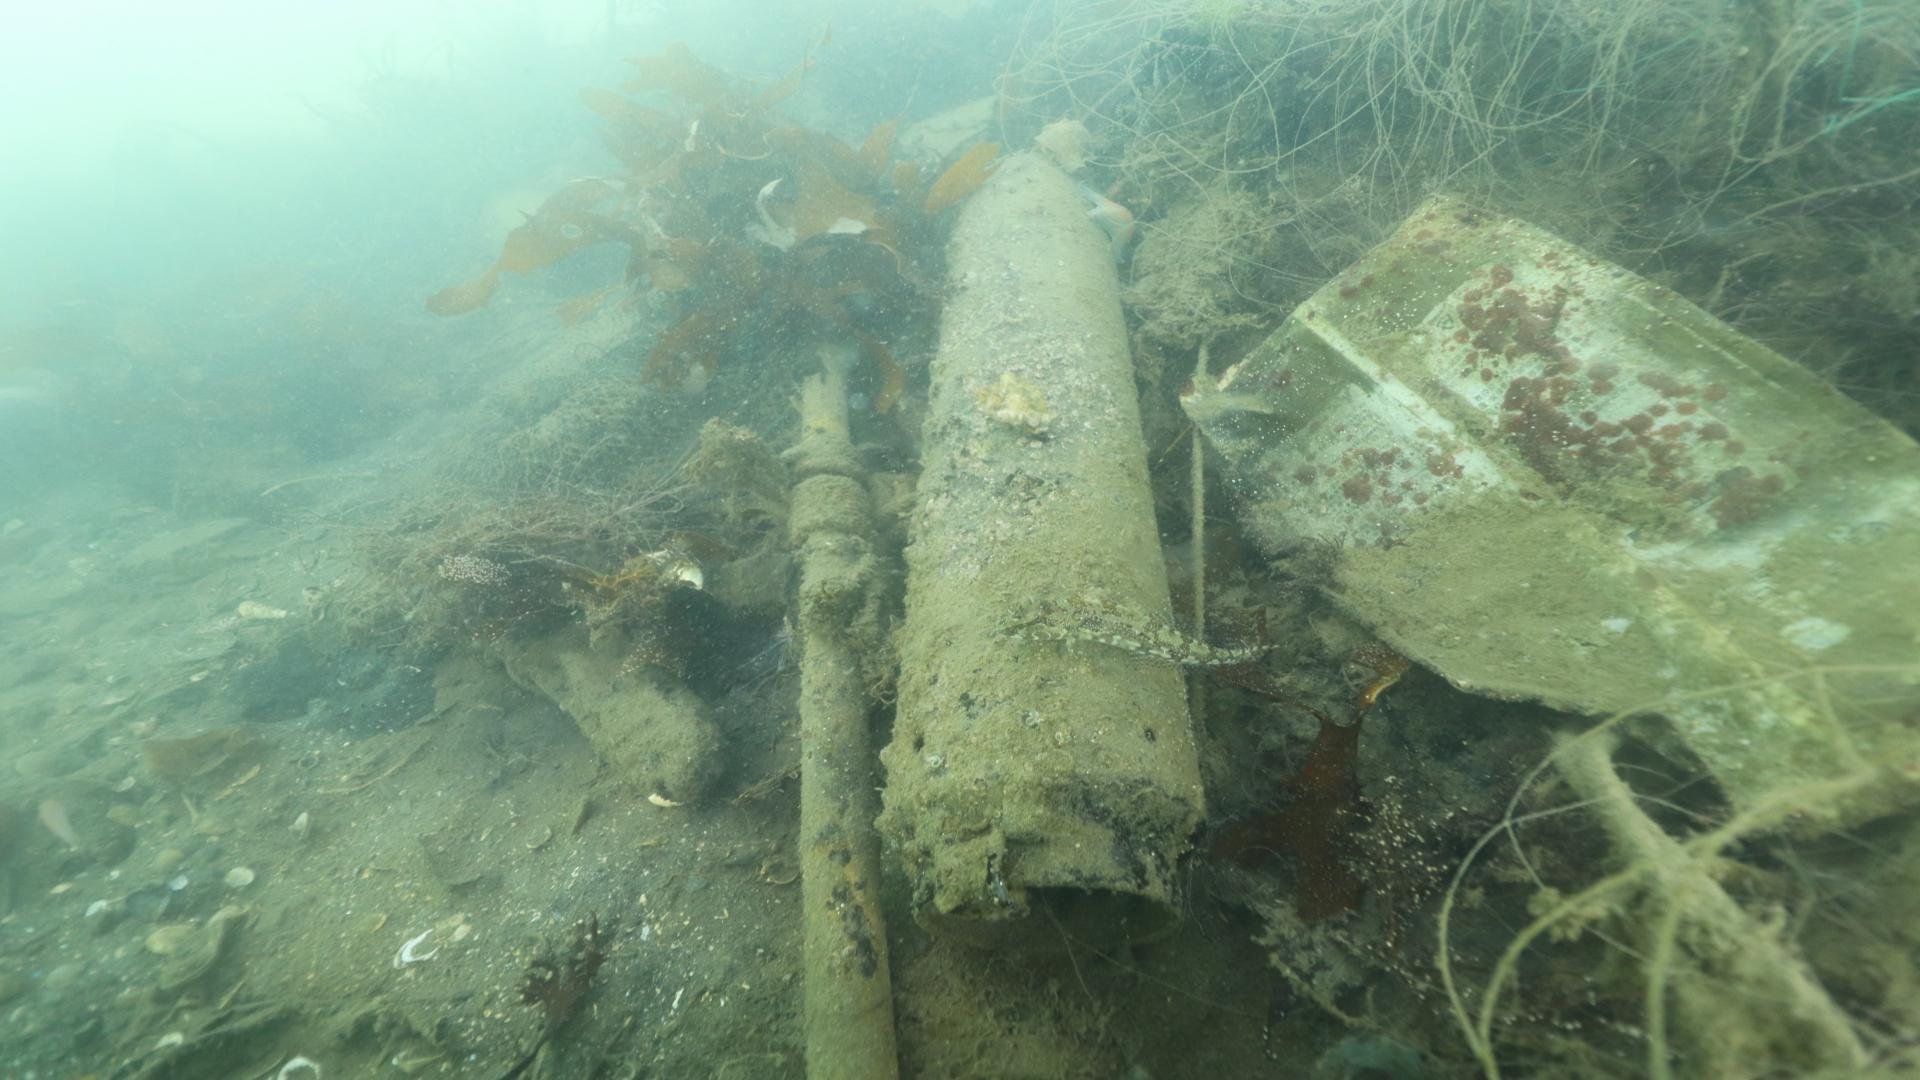eel fish trap: (877, 162, 1211, 932)
